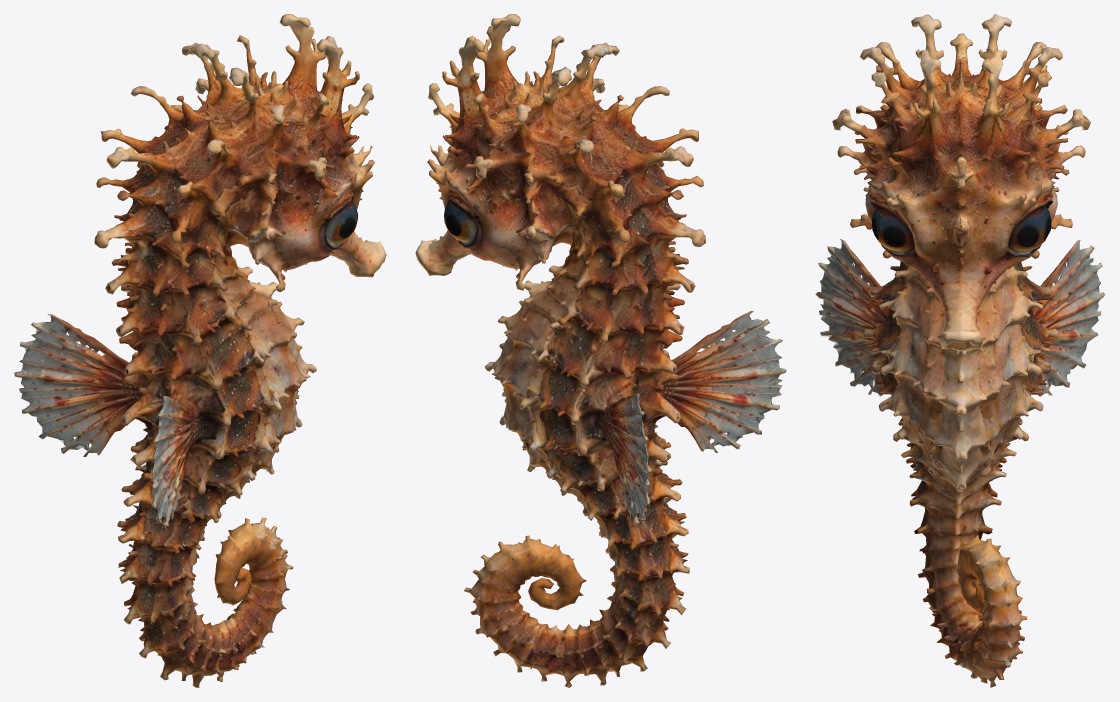
File: seepferd.glb
3 views of the same model, side by side, from view 1: azimuth 30°, elevation 25°; view 2: azimuth 150°, elevation 25°; view 3: azimuth 270°, elevation 25° (orthographic). The views are drawn at different scales.
Parts seen in each view (by area): view 1: tripo_node_f8f03960-c5b1-4e91-b8be-ff435b3daea9; view 2: tripo_node_f8f03960-c5b1-4e91-b8be-ff435b3daea9; view 3: tripo_node_f8f03960-c5b1-4e91-b8be-ff435b3daea9.
Boxes of the visible parts, box(x1,y1,x2,y2) form: tripo_node_f8f03960-c5b1-4e91-b8be-ff435b3daea9: box(14, 14, 386, 687); tripo_node_f8f03960-c5b1-4e91-b8be-ff435b3daea9: box(415, 14, 786, 687); tripo_node_f8f03960-c5b1-4e91-b8be-ff435b3daea9: box(815, 14, 1105, 687).
Bounding box in the file's own units: 0.4825 × 0.9816 × 0.3865.
Materials: 1 (1 with a texture image).
